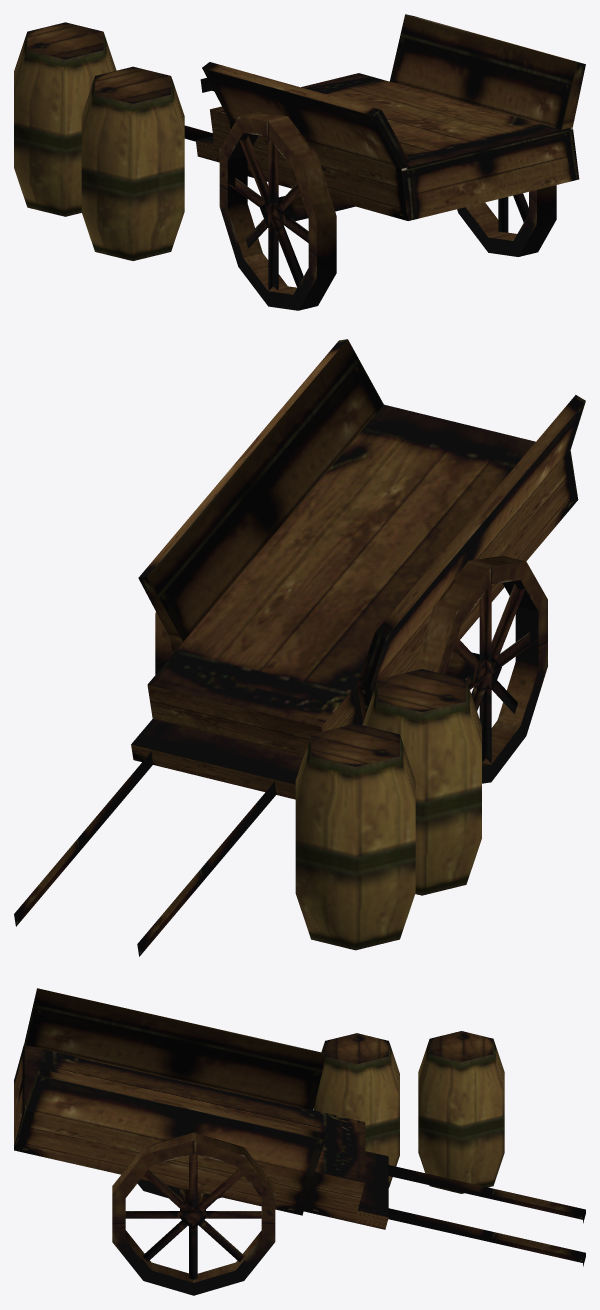
File: Carriage03.obj
3 renders of one model, top to bottom at view 1: azimuth 30°, elevation 25°; view 2: azimuth 150°, elevation 25°; view 3: azimuth 270°, elevation 25°, orthographic. The views are drawn at different scales.
Visible parts, largest first — view 1: Mesh_1, Mesh_0; view 2: Mesh_1, Mesh_0; view 3: Mesh_1, Mesh_0.
Boxes of the visible parts, left/top/right/bottom form: Mesh_1: left=27, top=14, right=585, bottom=310; Mesh_0: left=14, top=32, right=184, bottom=260; Mesh_1: left=14, top=339, right=585, bottom=956; Mesh_0: left=295, top=680, right=481, bottom=950; Mesh_1: left=14, top=988, right=585, bottom=1295; Mesh_0: left=314, top=1039, right=504, bottom=1193.
Bounding box in the file's own units: 2.48 × 1.83 × 4.37.
Materials: 2 (2 with a texture image).
